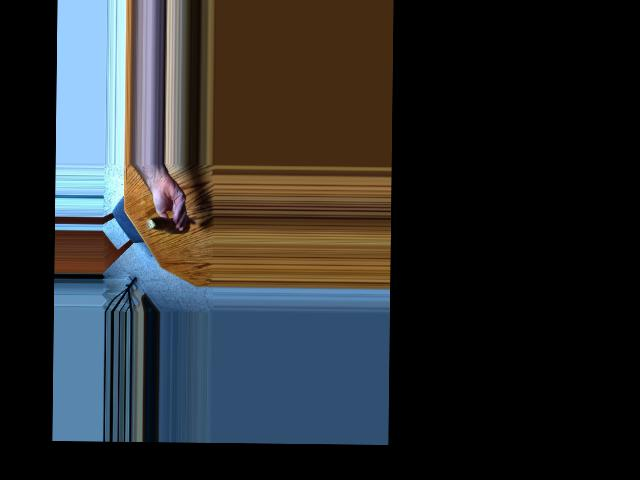sweet_potato: (148, 212, 184, 236)
